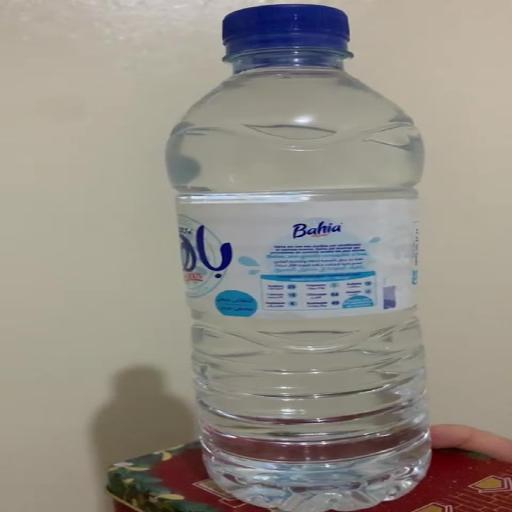bouteille conformite: (186, 3, 434, 511)
